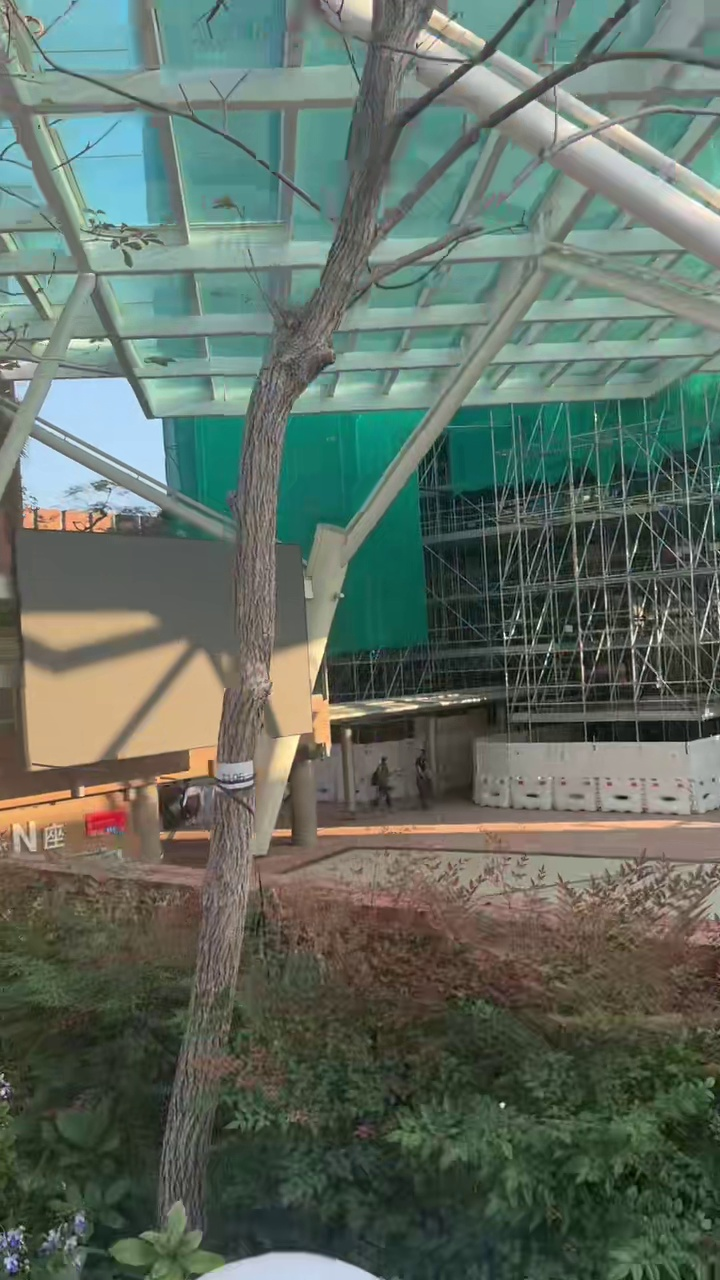Tabebuia chrysantha: (157, 0, 719, 1227)
